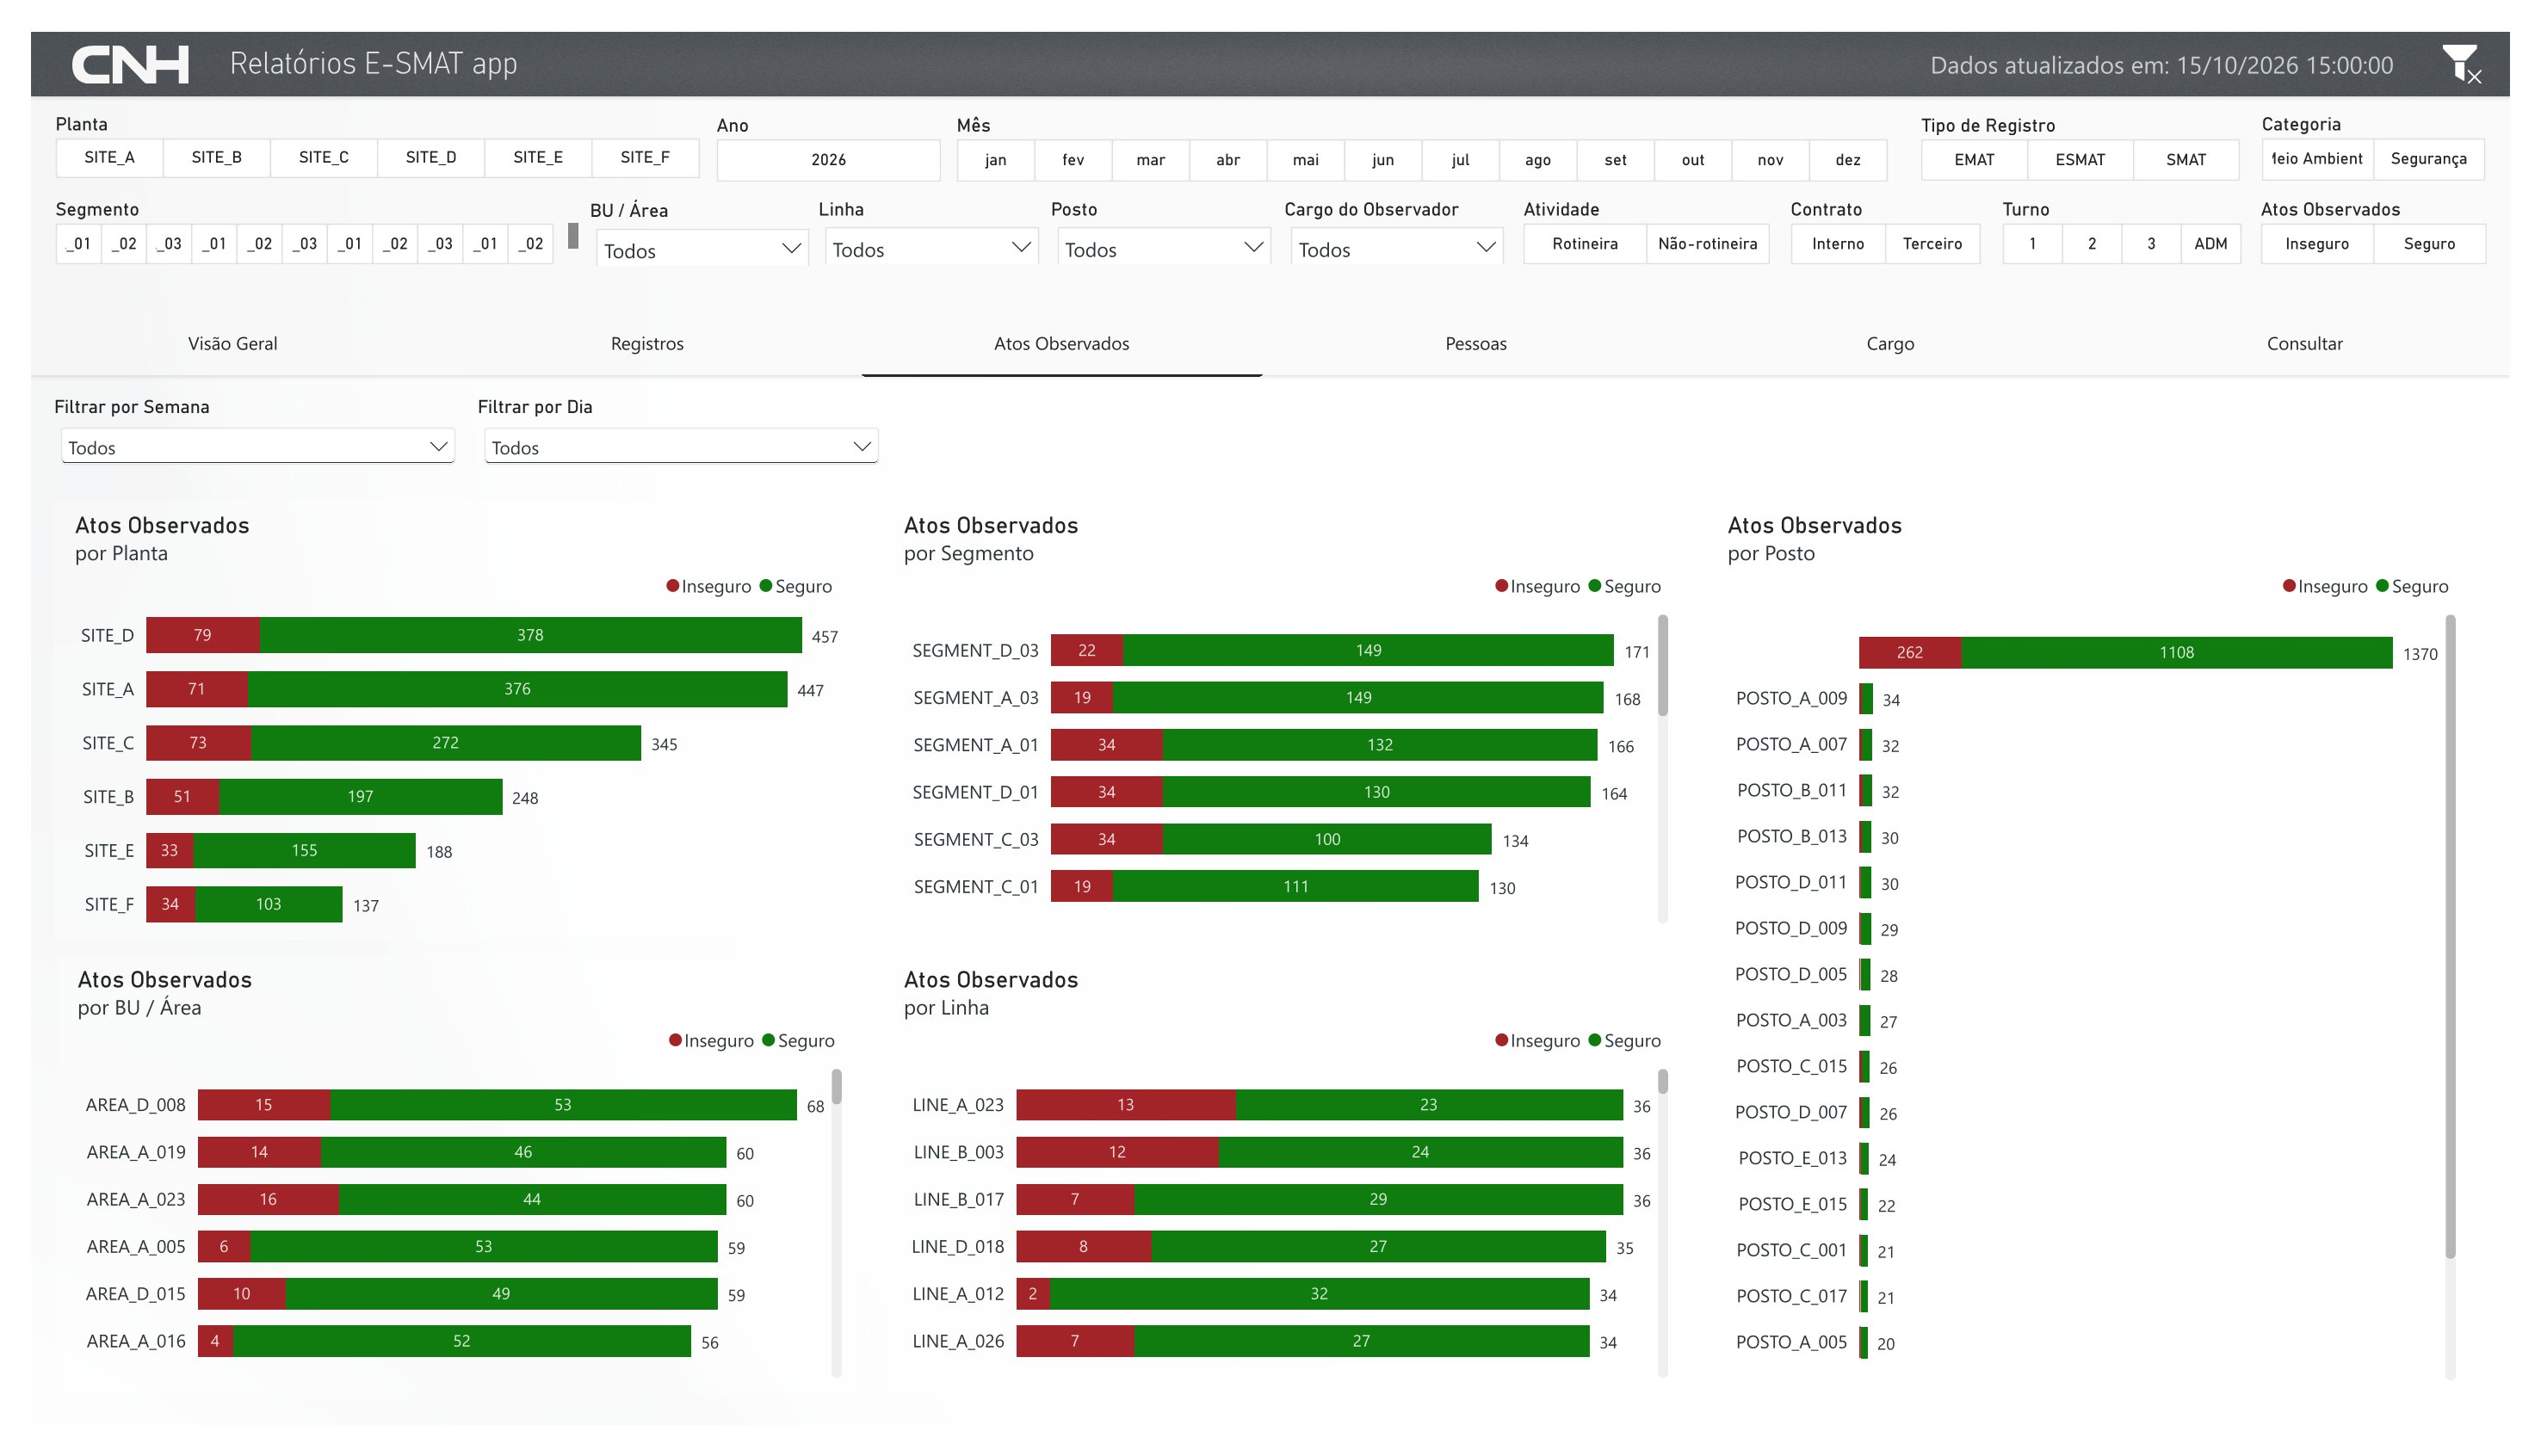

Layout of this report page (visuals, bound fields, positions):
{"tool":"powerbi","page":{"name":"Atos Observados","canvas":[1920,1080],"ordinal":2},"visuals":[{"type":"shape","box":[0,0,1920,266.7],"z":0},{"type":"image","box":[0,0,1920.6,50.5],"z":1000},{"type":"textbox","box":[154.3,11.4,300,38.6],"z":2000},{"type":"image","box":[1864.7,10.6,36.7,30],"z":3000},{"type":"image","box":[0,10.6,154.3,30.6],"z":4000},{"type":"advancedSlicerVisual","fields":{"Values":["d_cabecalho.Planta"]},"box":[18.6,63.8,504.1,50.5],"z":5000},{"type":"advancedSlicerVisual","fields":{"Values":["d_cabecalho.Ano"]},"box":[530.7,65.2,174.2,51.9],"z":6000},{"type":"advancedSlicerVisual","title":"Tipo de Registro","fields":{"Values":["d_cabecalho.TipoAuditoria"]},"box":[1464.4,65.2,248.7,50.5],"z":7000},{"type":"advancedSlicerVisual","title":"Mês","fields":{"Values":["d_calendario.nome_mes_abrev"]},"box":[717.3,65.3,732,52],"z":8000},{"type":"advancedSlicerVisual","title":"Categoria","fields":{"Values":["f_formulario.Tema"]},"box":[1727.7,63.8,174.2,51.9],"z":9000},{"type":"slicer","title":"BU / Área","fields":{"Values":["d_cabecalho.BUarea"]},"box":[433.3,130.7,174.7,51],"z":10000},{"type":"advancedSlicerVisual","title":"Segmento","fields":{"Values":["d_cabecalho.Segmento"]},"box":[18.7,130,405.3,51],"z":11000},{"type":"slicer","title":"Linha","fields":{"Values":["d_cabecalho.Linha"]},"box":[610,130,175.7,51.4],"z":12000},{"type":"slicer","title":"Posto","fields":{"Values":["d_cabecalho.Posto"]},"box":[790,130,175.7,51.4],"z":13000},{"type":"slicer","title":"Cargo do Observador","fields":{"Values":["d_cabecalho.Cargo"]},"box":[971.4,130,174.3,51.4],"z":14000},{"type":"advancedSlicerVisual","title":"Atividade","fields":{"Values":["d_cabecalho.TipoAtividade"]},"box":[1155.7,130,191.4,51.4],"z":15000},{"type":"advancedSlicerVisual","title":"Contrato","fields":{"Values":["d_cabecalho.TipoContrato"]},"box":[1362.9,130,148.6,51.4],"z":16000},{"type":"advancedSlicerVisual","title":"Atos Observados","fields":{"Values":["d_classificacao.Classificacao"]},"box":[1726.7,130,175.6,51],"z":17000},{"type":"pageNavigator","box":[0,217.3,1920,50.7],"z":18000},{"type":"advancedSlicerVisual","title":"Turno","fields":{"Values":["d_cabecalho.Turno"]},"box":[1526.7,130,186.7,51],"z":19000},{"type":"barChart","title":"Atos Observados","fields":{"Category":["d_cabecalho.Segmento"],"Series":["d_classificacao.Classificacao"],"Y":["Sum(d_classificacao.Ato)"]},"box":[660,364,624,340],"z":20000},{"type":"barChart","title":"Atos Observados","fields":{"Category":["d_cabecalho.Planta"],"Series":["d_classificacao.Classificacao"],"Y":["Sum(d_classificacao.Ato)"]},"box":[18,364,624,340],"z":21000},{"type":"barChart","title":"Atos Observados","fields":{"Category":["d_cabecalho.Posto"],"Series":["d_classificacao.Classificacao"],"Y":["Sum(d_classificacao.Ato)"]},"box":[1298,364,596,694],"z":22000},{"type":"barChart","title":"Atos Observados","fields":{"Category":["d_cabecalho.Linha"],"Series":["d_classificacao.Classificacao"],"Y":["Sum(d_classificacao.Ato)"]},"box":[659.6,716,624,340],"z":23000},{"type":"barChart","title":"Atos Observados","fields":{"Category":["d_cabecalho.BUarea"],"Series":["d_classificacao.Classificacao"],"Y":["Sum(d_classificacao.Ato)"]},"box":[19.6,716,624,340],"z":24000},{"type":"cardVisual","fields":{"Data":["d_medidas.Ultima_Atualizacao"]},"box":[1268,16,578,18],"z":27000},{"type":"slicer","title":"Filtrar por Semana","fields":{"Values":["d_calendario.semana_ano"]},"box":[17.6,283.3,316.5,54.7],"z":27001},{"type":"slicer","title":"Filtrar por Dia","fields":{"Values":["d_calendario.dia"]},"box":[345.8,283.3,316.5,54.7],"z":27002}]}

Visuals, with their boxes on the page's 1920x1080 design canvas (x1, y1, x2, y2). These are canvas units, not pixel positions in the 2541x1456 screenshot, which may show the page scaled, cropped or inside an application window:
shape: locate(0, 0, 1920, 267)
image: locate(0, 0, 1921, 50)
textbox: locate(154, 11, 454, 50)
image: locate(1865, 11, 1901, 41)
image: locate(0, 11, 154, 41)
advancedSlicerVisual - d_cabecalho.Planta: locate(19, 64, 523, 114)
advancedSlicerVisual - d_cabecalho.Ano: locate(531, 65, 705, 117)
"Tipo de Registro" advancedSlicerVisual: locate(1464, 65, 1713, 116)
"Mês" advancedSlicerVisual: locate(717, 65, 1449, 117)
"Categoria" advancedSlicerVisual: locate(1728, 64, 1902, 116)
"BU / Área" slicer: locate(433, 131, 608, 182)
"Segmento" advancedSlicerVisual: locate(19, 130, 424, 181)
"Linha" slicer: locate(610, 130, 786, 181)
"Posto" slicer: locate(790, 130, 966, 181)
"Cargo do Observador" slicer: locate(971, 130, 1146, 181)
"Atividade" advancedSlicerVisual: locate(1156, 130, 1347, 181)
"Contrato" advancedSlicerVisual: locate(1363, 130, 1512, 181)
"Atos Observados" advancedSlicerVisual: locate(1727, 130, 1902, 181)
pageNavigator: locate(0, 217, 1920, 268)
"Turno" advancedSlicerVisual: locate(1527, 130, 1713, 181)
"Atos Observados" barChart: locate(660, 364, 1284, 704)
"Atos Observados" barChart: locate(18, 364, 642, 704)
"Atos Observados" barChart: locate(1298, 364, 1894, 1058)
"Atos Observados" barChart: locate(660, 716, 1284, 1056)
"Atos Observados" barChart: locate(20, 716, 644, 1056)
cardVisual - d_medidas.Ultima_Atualizacao: locate(1268, 16, 1846, 34)
"Filtrar por Semana" slicer: locate(18, 283, 334, 338)
"Filtrar por Dia" slicer: locate(346, 283, 662, 338)
